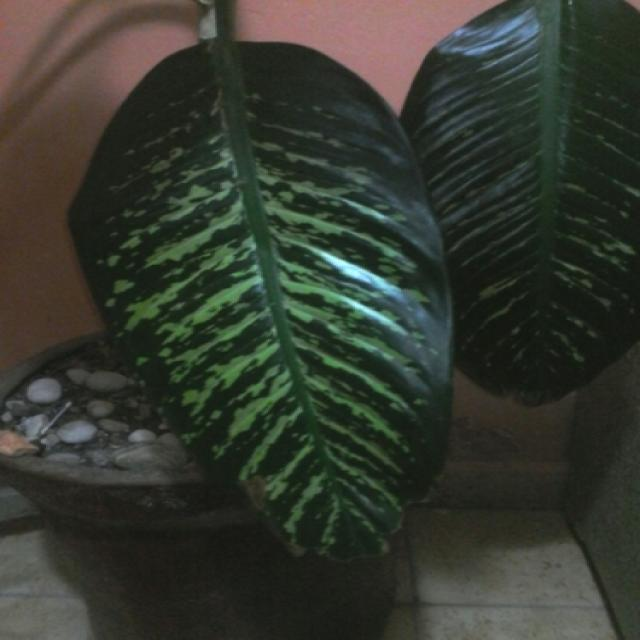dieffenbachia-oVHx: (70, 0, 640, 561)
